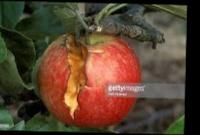rotten apple: (33, 32, 141, 127)
